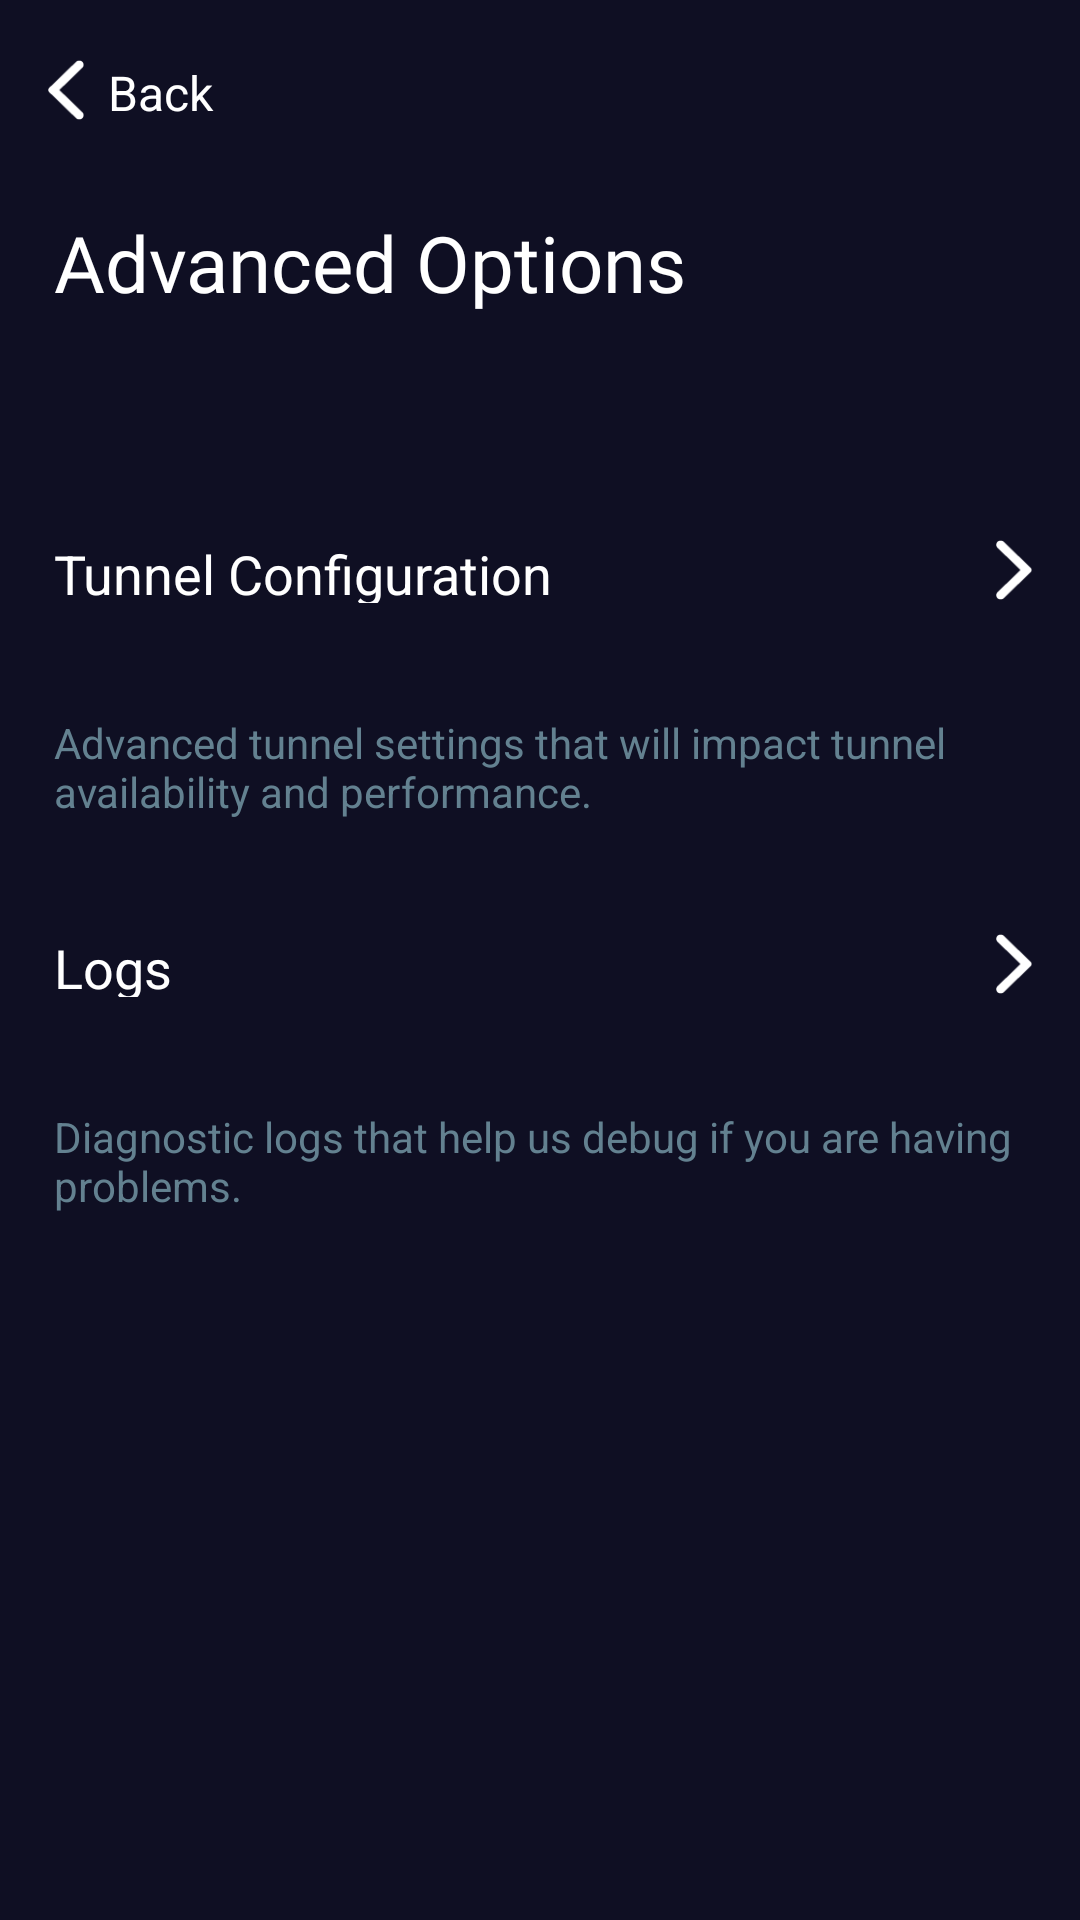

Screen size 1080x1920. Icon name, then its center in pixels as [x,y]:
next: [1014,570], [1014,964]
